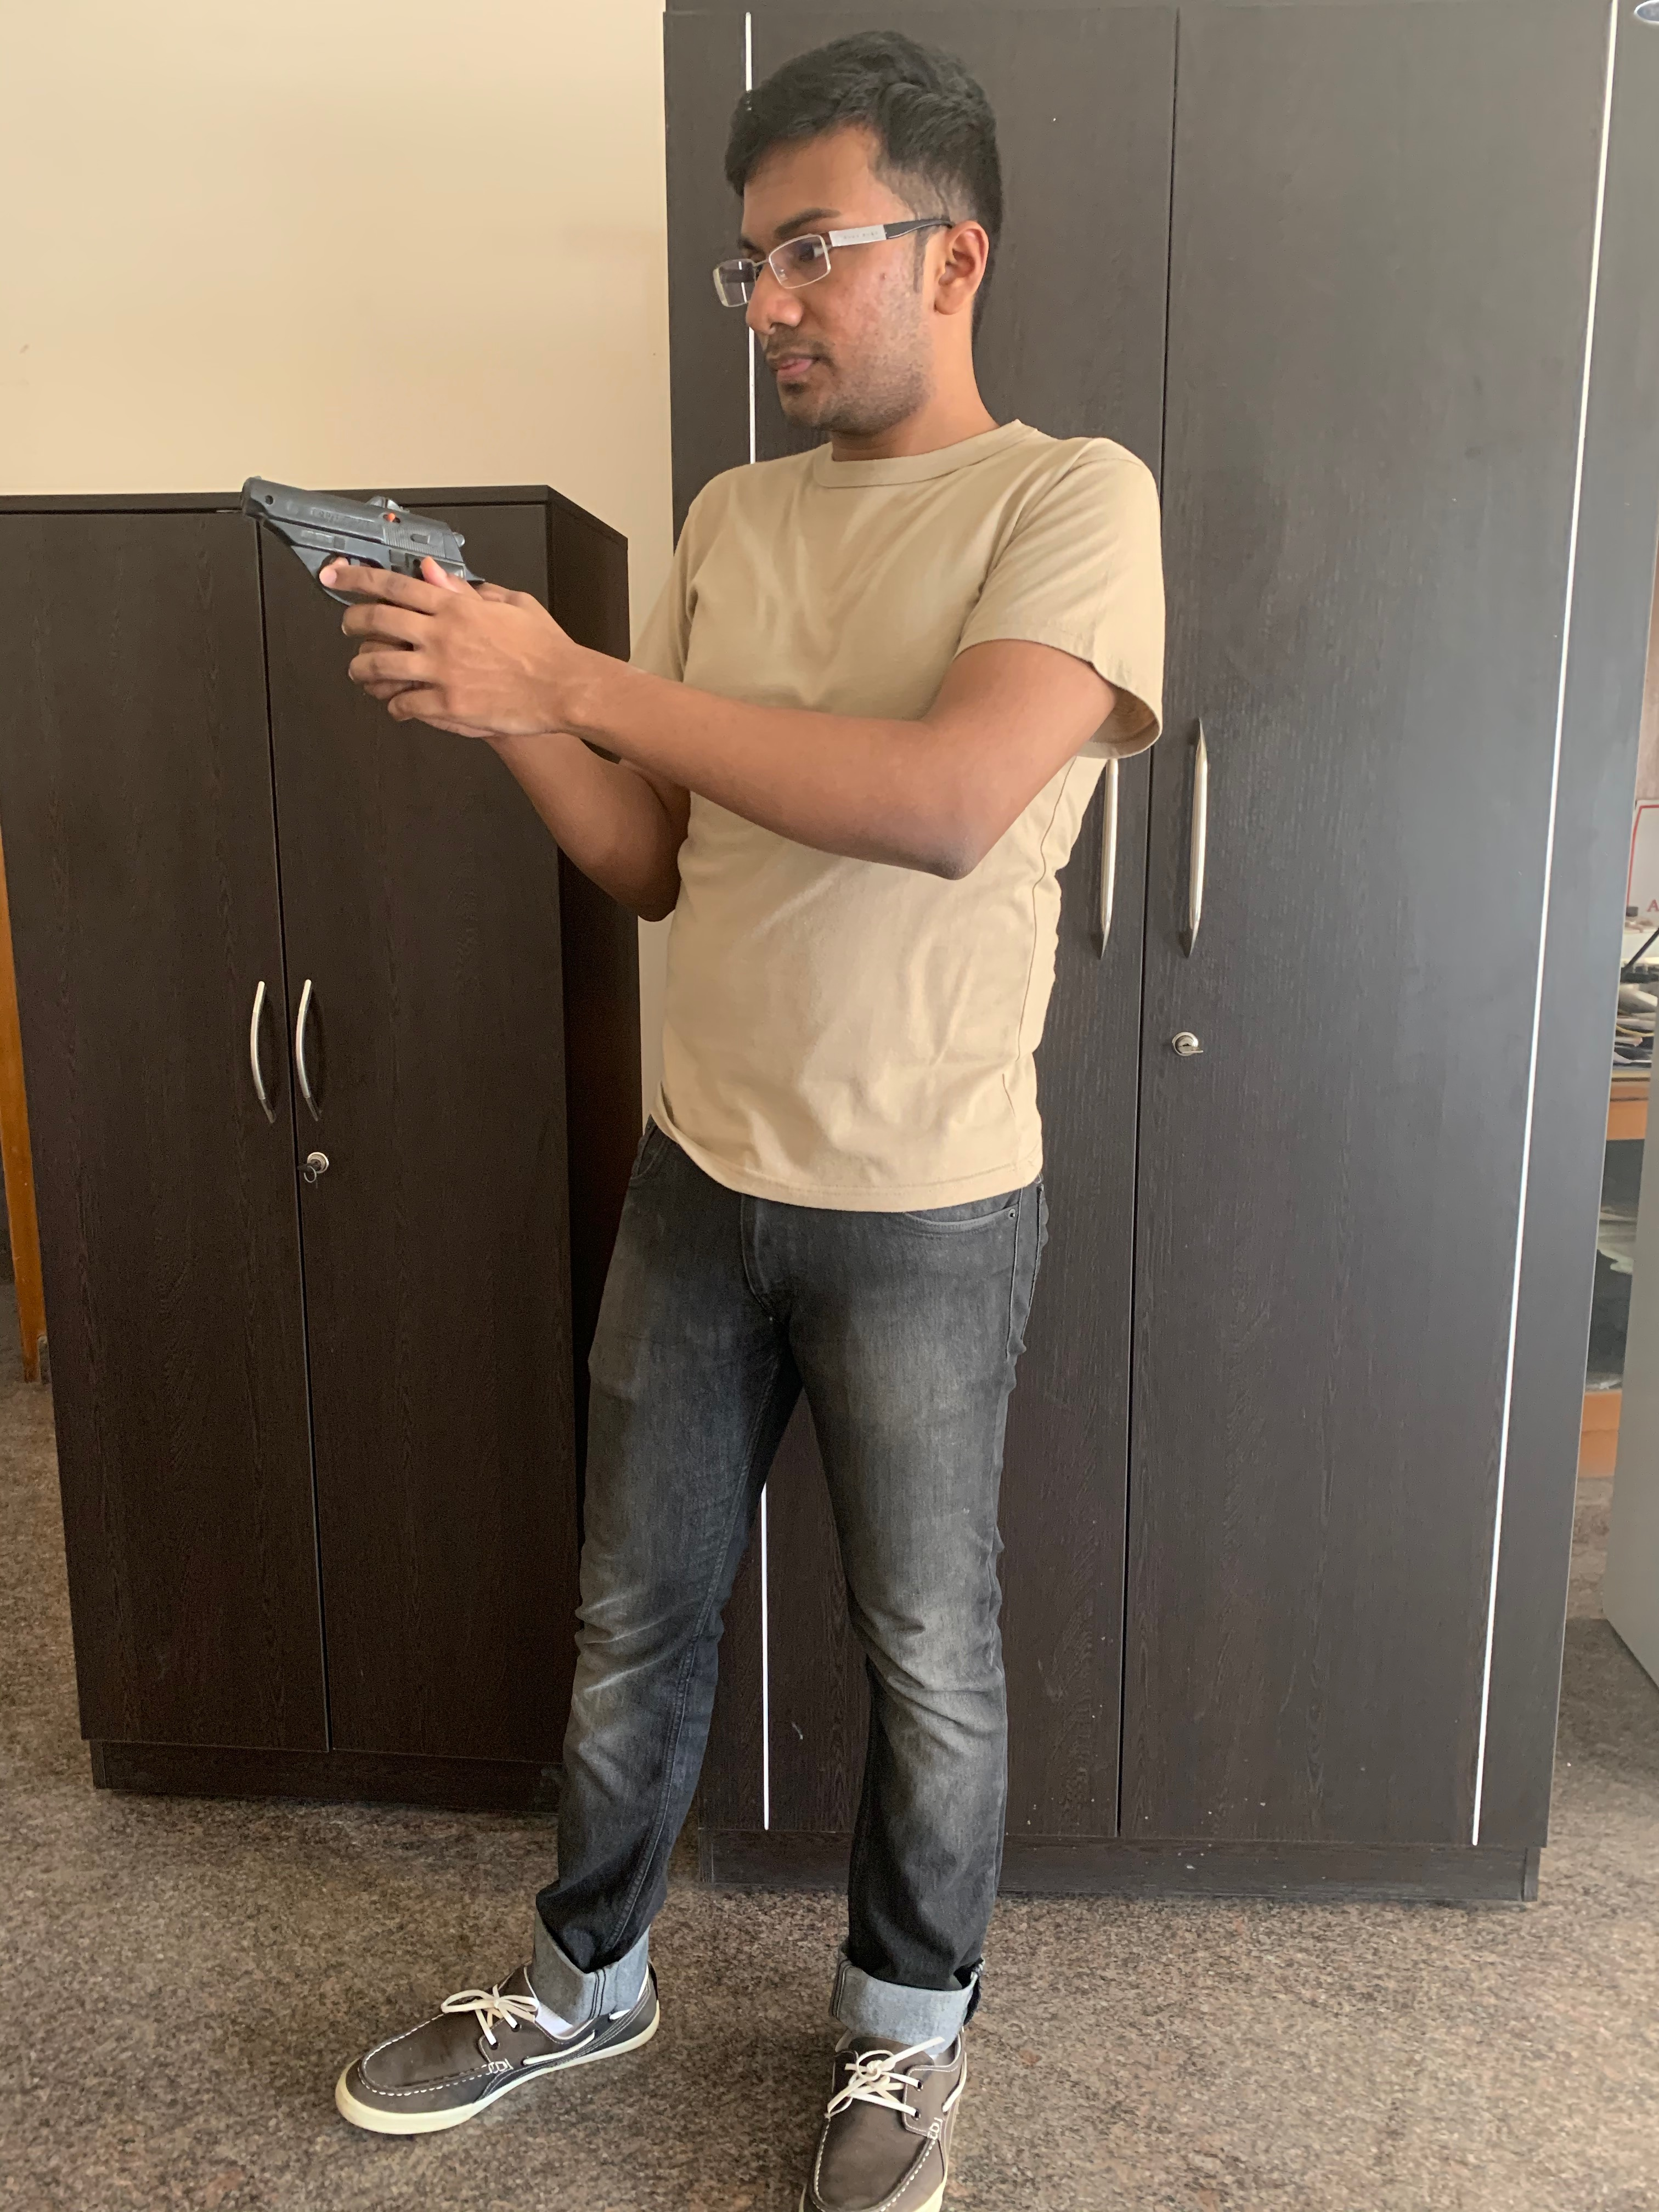gun: (235, 465, 481, 678)
